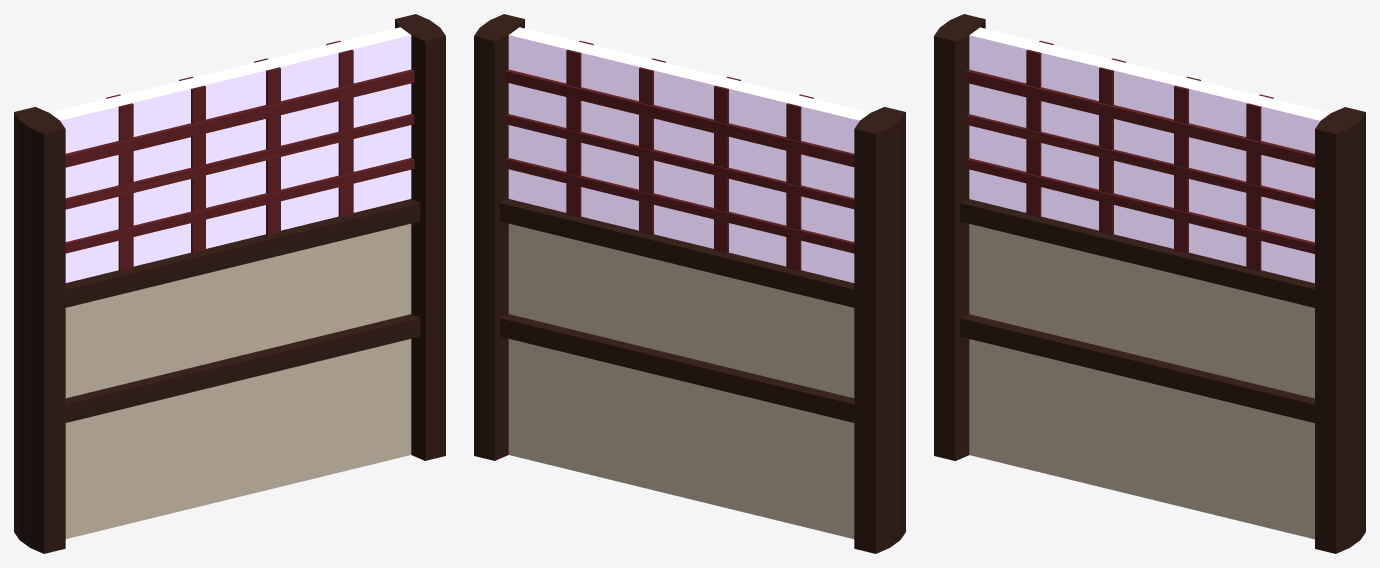
File: BuildingWall_1_1 Asia.fbx
3 renders of one model, left to right at view 1: azimuth 30°, elevation 25°; view 2: azimuth 150°, elevation 25°; view 3: azimuth 330°, elevation 25°, orthographic.
Parts seen in each view (by area): view 1: BuildingWall_1_1; view 2: BuildingWall_1_1; view 3: BuildingWall_1_1.
Part boxes in pixels (x1,y1,x2,y2): BuildingWall_1_1: (14,14,445,553); BuildingWall_1_1: (474,14,905,553); BuildingWall_1_1: (934,14,1365,553).
Size of the model in its own units: 2 by 1.96 by 0.254.
